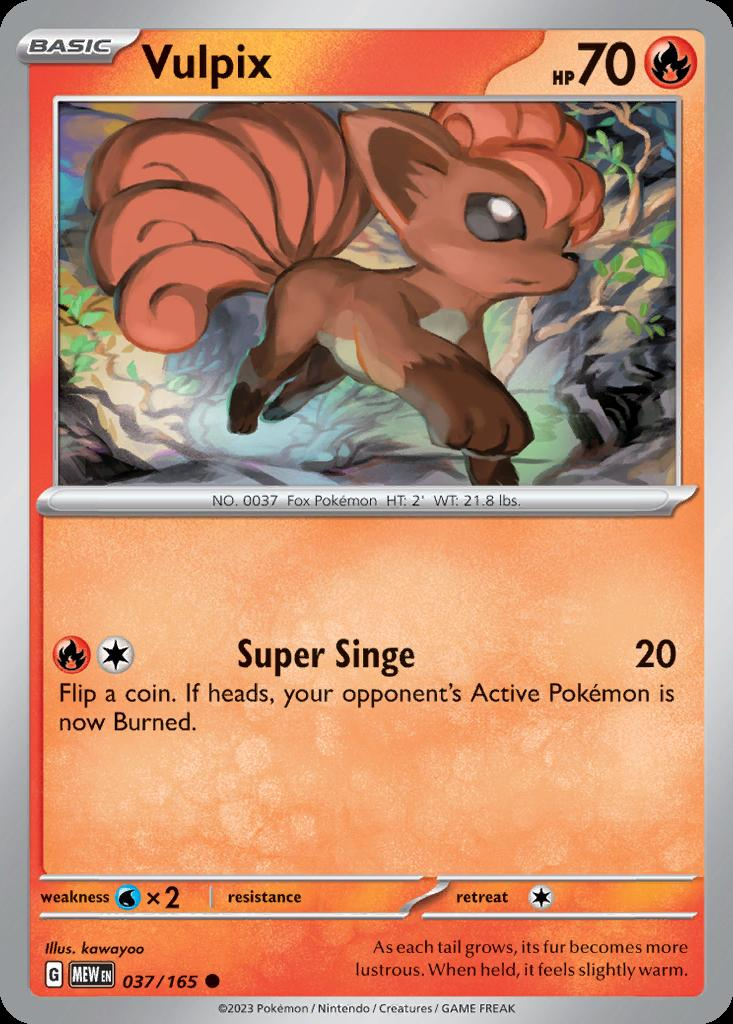card: (0, 0, 733, 1024)
hp: (543, 33, 703, 90)
name: (130, 33, 287, 91)
set num: (123, 964, 211, 993)
set symbol: (40, 954, 120, 993)
